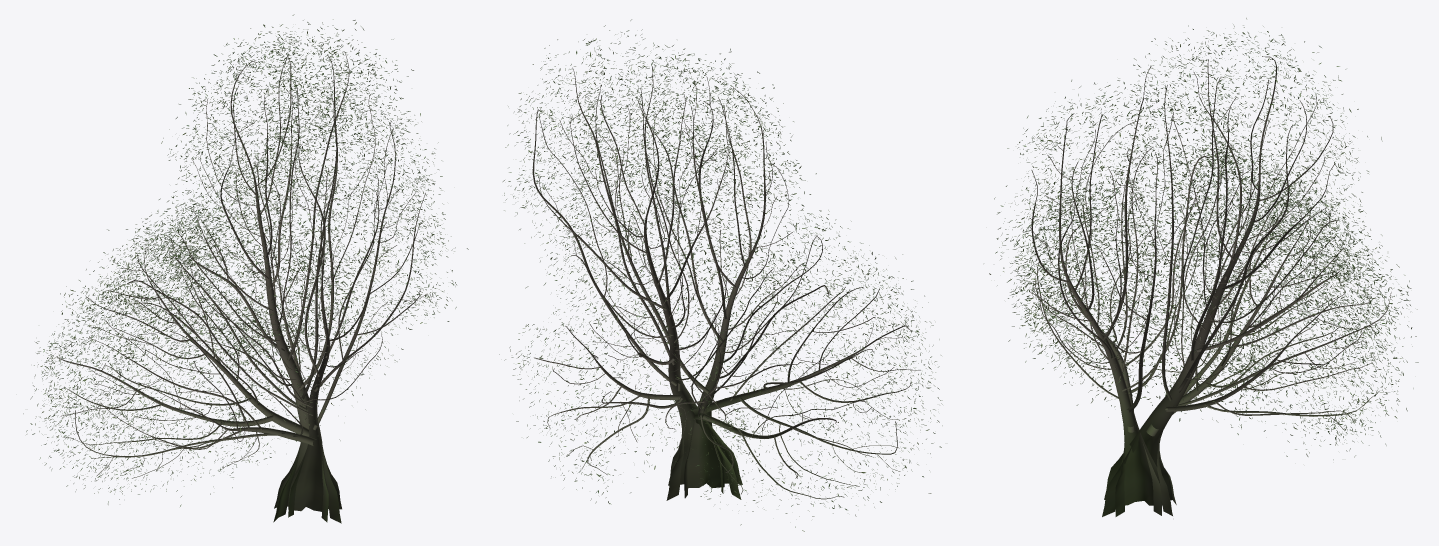
File: SM_Tree_willow_1.glb
3 renders of one model, left to right at view 1: azimuth 30°, elevation 25°; view 2: azimuth 150°, elevation 25°; view 3: azimuth 270°, elevation 25°, orthographic. The views are drawn at different scales.
Parts seen in each view (by area): view 1: SM_Tree_willow_1; view 2: SM_Tree_willow_1; view 3: SM_Tree_willow_1.
Part boxes in pixels (x1=…): SM_Tree_willow_1: x1=23, y1=14, x2=468, y2=523; SM_Tree_willow_1: x1=499, y1=19, x2=942, y2=531; SM_Tree_willow_1: x1=989, y1=18, x2=1418, y2=516.
Bounding box in the file's own units: 11.63 × 13.17 × 10.37.
